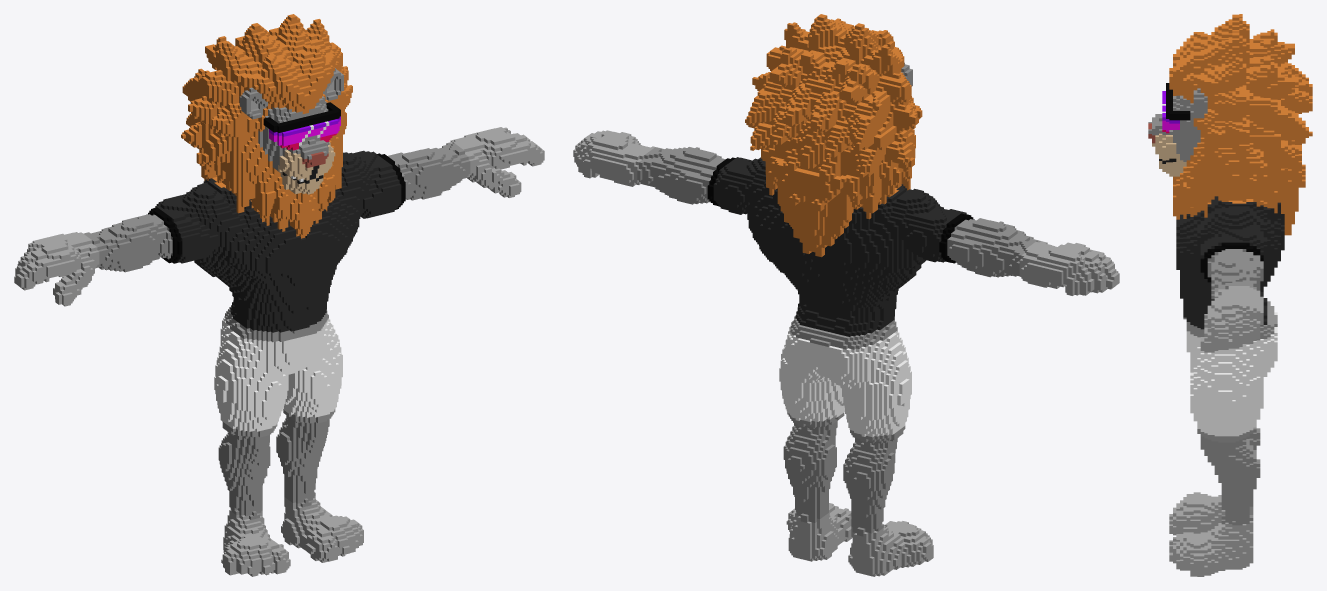
Rendered from 824-C1YAiwK7.glb.
3 views of the same model, side by side, from view 1: azimuth 30°, elevation 25°; view 2: azimuth 150°, elevation 25°; view 3: azimuth 270°, elevation 25° (orthographic). The views are drawn at different scales.
Parts seen in each view (by area): view 1: smirk; view 2: smirk; view 3: smirk.
Part boxes in pixels (x1,y1,x2,y2): smirk: (14,14,544,576); smirk: (573,14,1119,576); smirk: (1148,14,1312,576).
Size of the model in its own units: 17.2 by 16.5 by 4.7.
5 materials, 5 textured.
